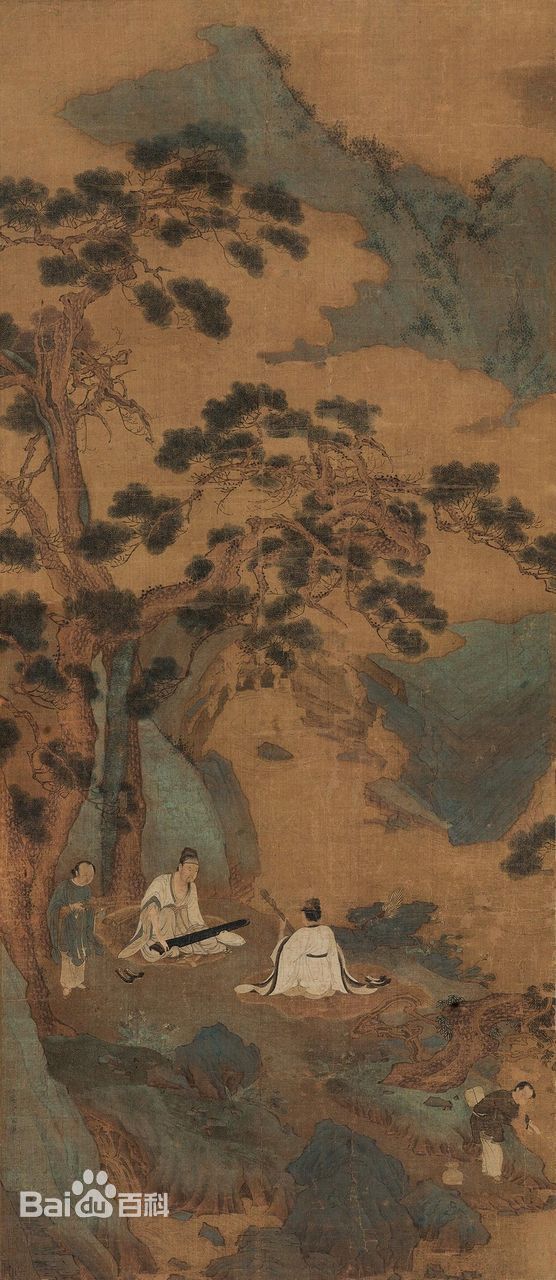guqin: (152, 914, 251, 952)
hill: (380, 177, 544, 380), (388, 632, 550, 807), (9, 1056, 266, 1153), (148, 1154, 394, 1253), (80, 38, 265, 108), (253, 107, 383, 191), (329, 292, 378, 349)
instrument: (254, 893, 296, 933)
man: (136, 853, 251, 971), (258, 894, 386, 998), (465, 1086, 538, 1180), (60, 860, 97, 999)
tree: (325, 487, 436, 645), (1, 185, 144, 283), (11, 338, 87, 501), (148, 136, 239, 233), (1, 803, 69, 924), (141, 285, 230, 335), (60, 615, 85, 792), (14, 922, 53, 1026), (61, 661, 87, 813), (78, 566, 130, 639), (282, 443, 362, 481), (439, 468, 484, 535), (24, 501, 64, 574), (110, 812, 140, 899), (165, 439, 254, 467), (1, 594, 48, 646), (480, 506, 524, 551), (267, 607, 303, 661), (69, 530, 135, 559), (62, 287, 98, 334), (261, 506, 325, 532), (130, 717, 142, 844), (277, 537, 307, 587), (525, 544, 556, 591), (262, 226, 307, 258), (270, 416, 331, 439), (326, 404, 374, 433), (120, 494, 166, 524), (249, 188, 296, 217), (231, 245, 274, 272), (228, 390, 282, 410), (145, 519, 176, 549), (1, 533, 28, 567), (199, 468, 235, 492), (207, 406, 239, 431)
